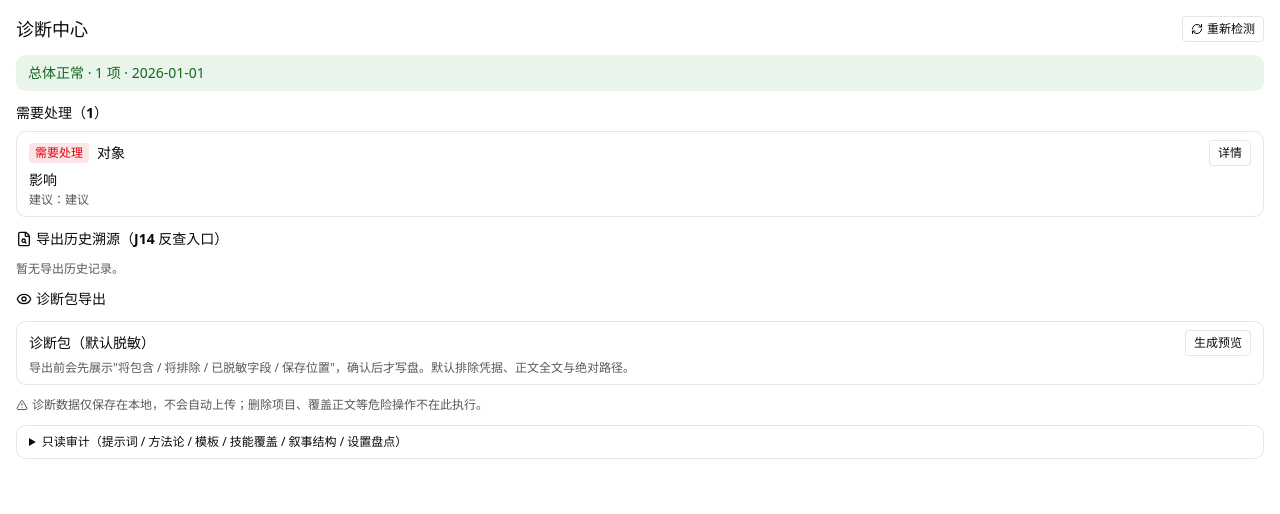
Test case: SEQ-45 collapsible a11y batch-1 (PAT-U5) › diagnostics-center health expand toggle exposes aria-expanded and region
Click the button with test id "health-expand-h1": (1230, 153) left=1209, top=140, right=1251, bottom=166
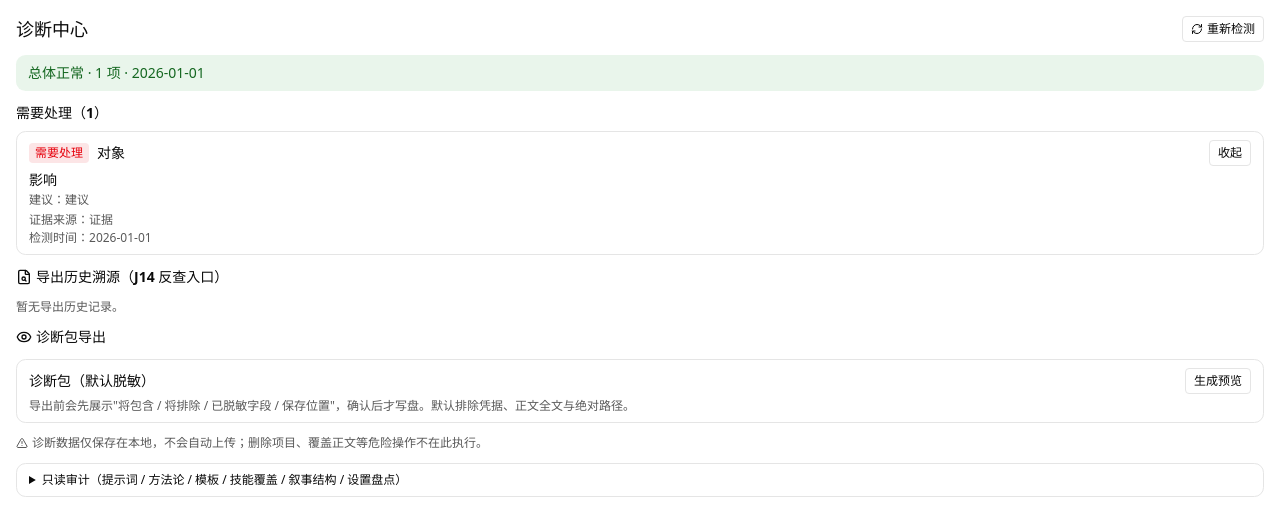
Expected: the button with test id "health-expand-h1" is expanded, left=1209, top=140, right=1251, bottom=166
